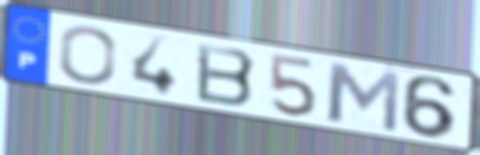4: (129, 33, 183, 98)
5: (266, 50, 320, 119)
6: (399, 74, 460, 141)
B: (194, 40, 259, 110)
M: (323, 59, 403, 135)
O: (56, 25, 119, 86)
